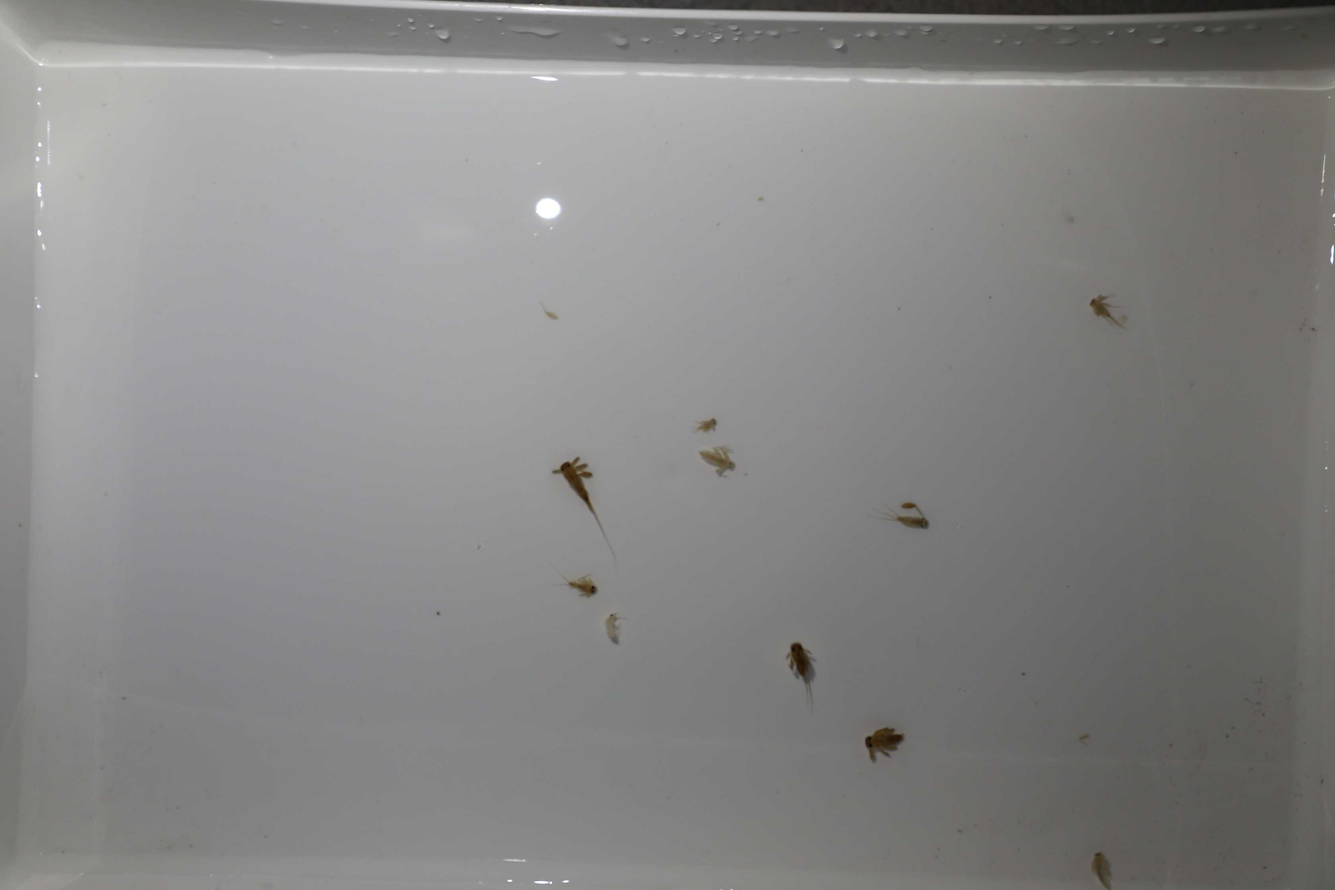Mayfly: (545, 444, 618, 566), (781, 637, 831, 720), (1083, 289, 1144, 340), (859, 722, 911, 766), (1083, 844, 1120, 890), (869, 510, 936, 535), (695, 444, 738, 481), (560, 573, 603, 601), (606, 614, 632, 651), (694, 413, 720, 433)
